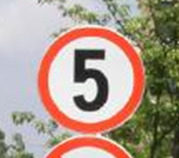speed_limit_5: (37, 26, 144, 134)
